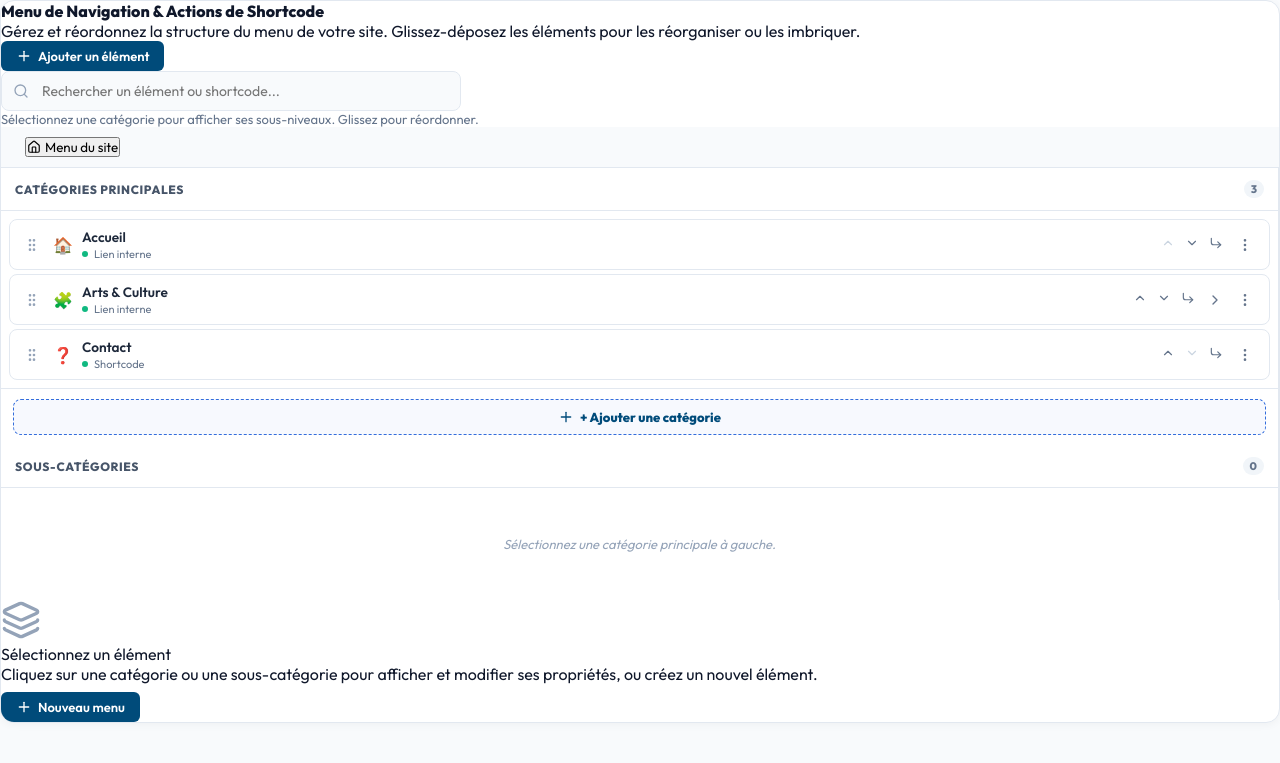
Test: MenuManager Column-Based Navigation Tests › clicking a child with deeper descendants displays Column 3 and breadcrumb trail
The width and height of the screenshot is (1280, 763).
Click the text "Arts & Culture". click: x=125, y=292
box: [82,283,168,301]
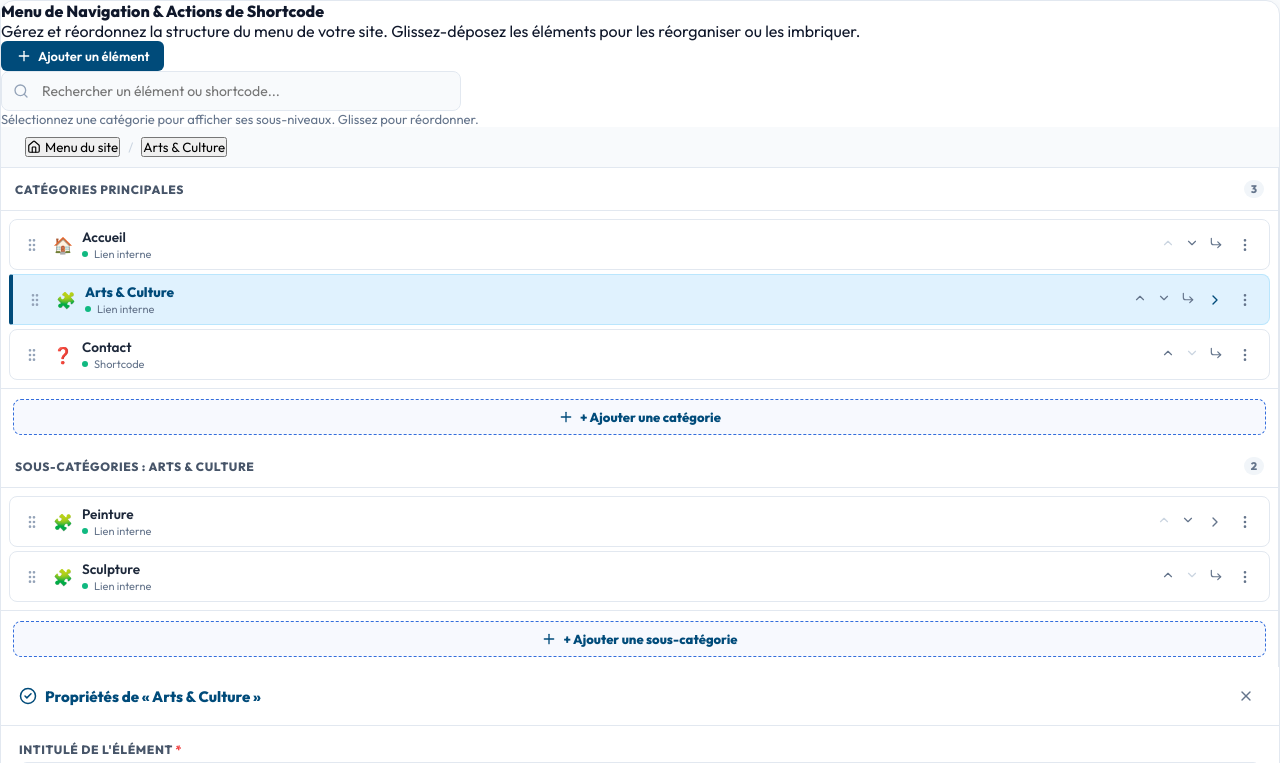
Click the text "Peinture". click: x=108, y=514
box: [82,505,134,523]
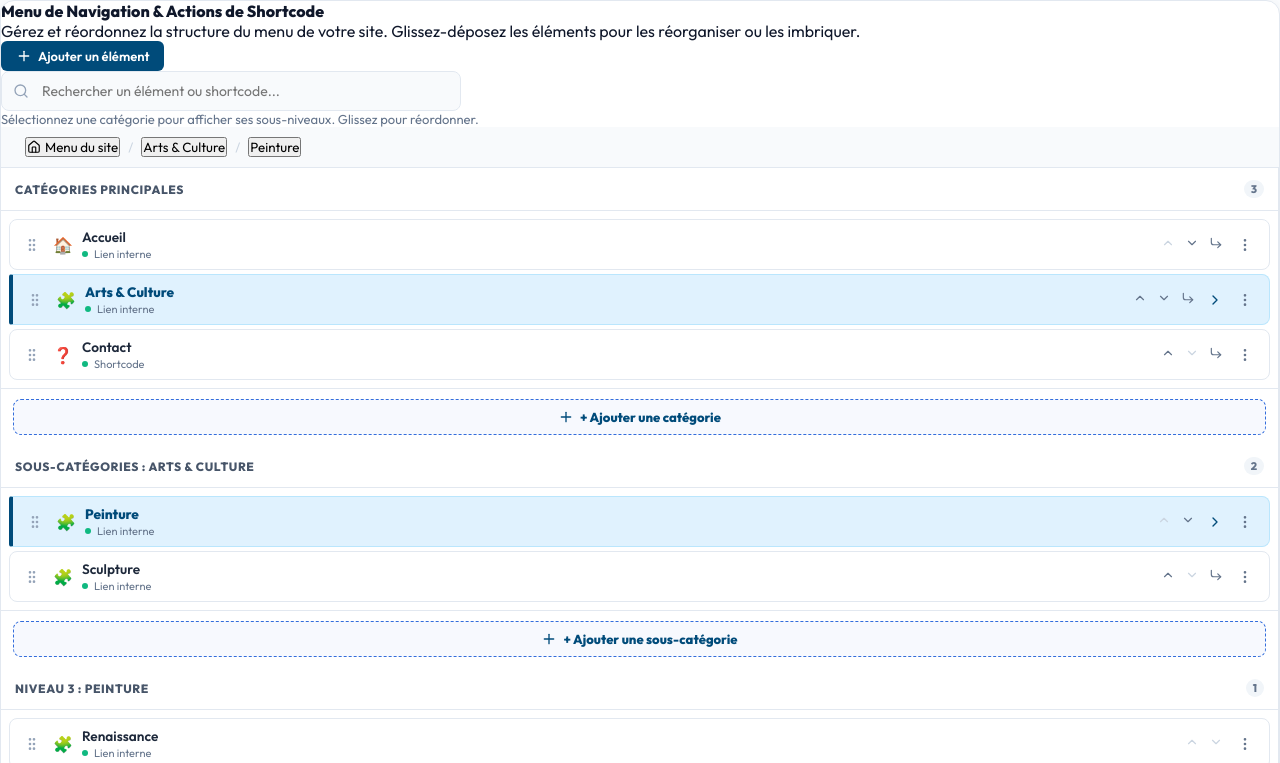
Expected: the navigation bar named "Fil d'ariane" is shown, [1,127,1279,168]
Result: the text "Renaissance" is shown at [82,727,158,745]
